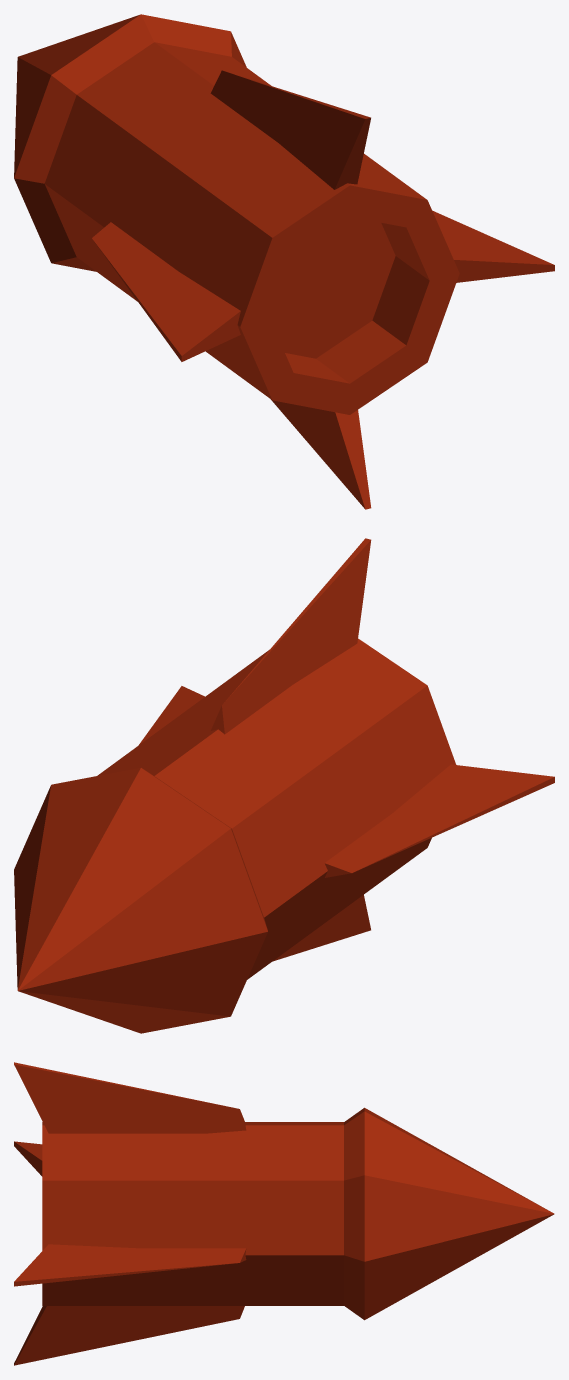
Rendered from Rocket.fbx.
3 renders of one model, top to bottom at view 1: azimuth 30°, elevation 25°; view 2: azimuth 150°, elevation 25°; view 3: azimuth 270°, elevation 25°, orthographic. The views are drawn at different scales.
Visible parts, largest first — view 1: Missile; view 2: Missile; view 3: Missile.
Boxes of the visible parts, box(x1,y1,x2,y2) form: Missile: box(14, 14, 554, 509); Missile: box(14, 538, 554, 1033); Missile: box(14, 1062, 554, 1365).
Bounding box in the file's own units: 340 × 340 × 554.
